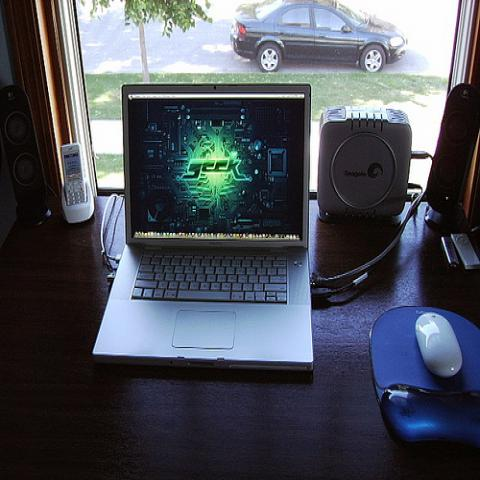car: (230, 0, 408, 75)
